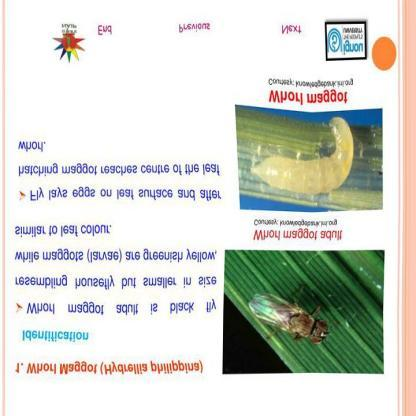whorl-maggot: (245, 115, 356, 198)
